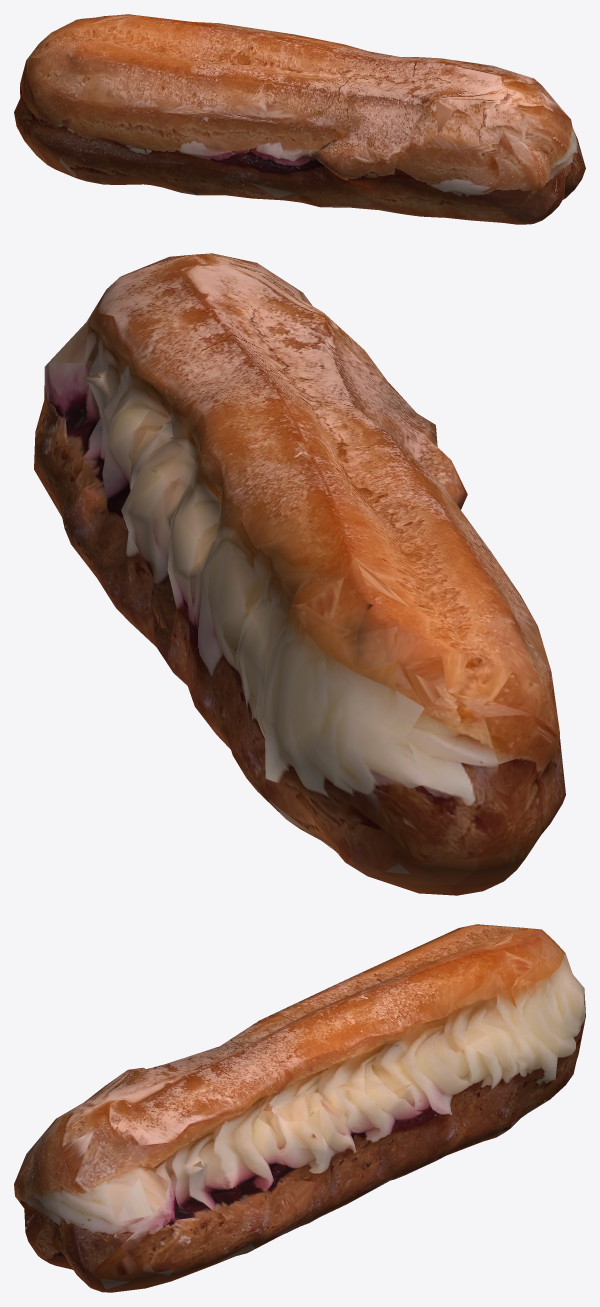
The model's file is eclaire_1262.obj.
3 renders of one model, top to bottom at view 1: azimuth 30°, elevation 25°; view 2: azimuth 150°, elevation 25°; view 3: azimuth 270°, elevation 25°, orthographic. The views are drawn at different scales.
Size of the model in its own units: 93.9 by 31.53 by 91.23.
1 material, 1 textured.
